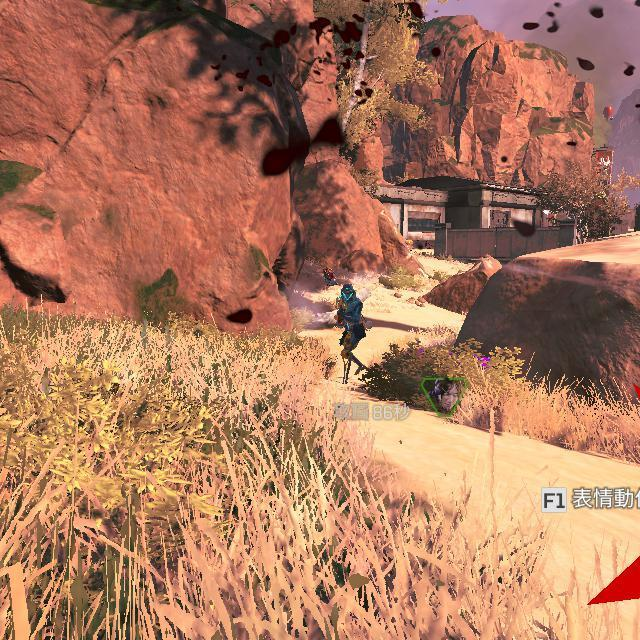avatar: (333, 281, 370, 387)
